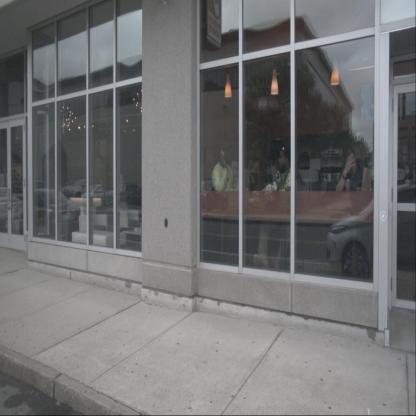human-pedestrian-adult: (252, 144, 303, 276), (335, 148, 370, 276), (210, 141, 242, 265)
vehicle-car: (326, 185, 416, 278), (16, 188, 80, 241), (196, 179, 230, 212), (0, 185, 24, 228), (80, 183, 113, 206), (116, 182, 144, 205), (247, 189, 268, 213), (133, 187, 156, 206)
vehicle-truck: (63, 179, 101, 200)
